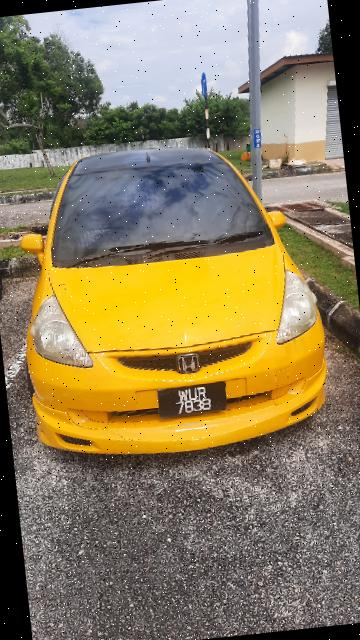License_Plate: (153, 380, 234, 423)
car: (1, 132, 339, 475)
